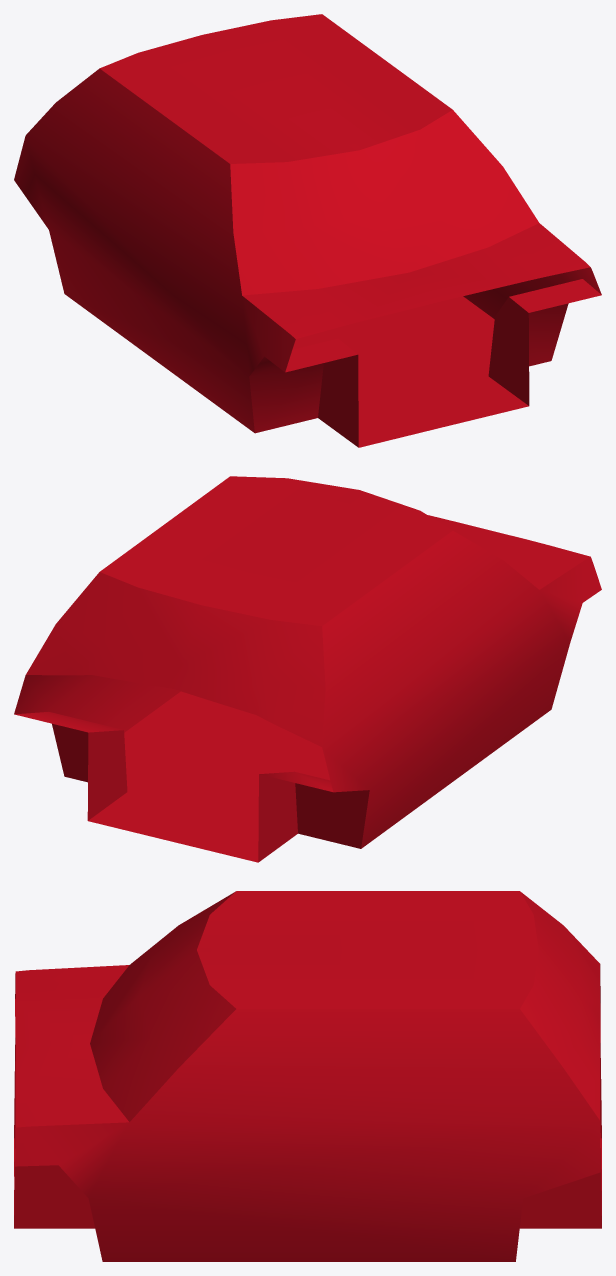
Rendered from template_car_sedan_middle.dae.
3 renders of one model, top to bottom at view 1: azimuth 30°, elevation 25°; view 2: azimuth 150°, elevation 25°; view 3: azimuth 270°, elevation 25°, orthographic. The views are drawn at different scales.
Parts seen in each view (by area): view 1: template_car_sedan_middle; view 2: template_car_sedan_middle; view 3: template_car_sedan_middle.
Boxes of the visible parts, <box> form: template_car_sedan_middle: <box>14,14,601,447</box>; template_car_sedan_middle: <box>14,476,601,862</box>; template_car_sedan_middle: <box>14,891,601,1261</box>.
Bounding box in the file's own units: 1.72 × 2.51 × 1.1.
